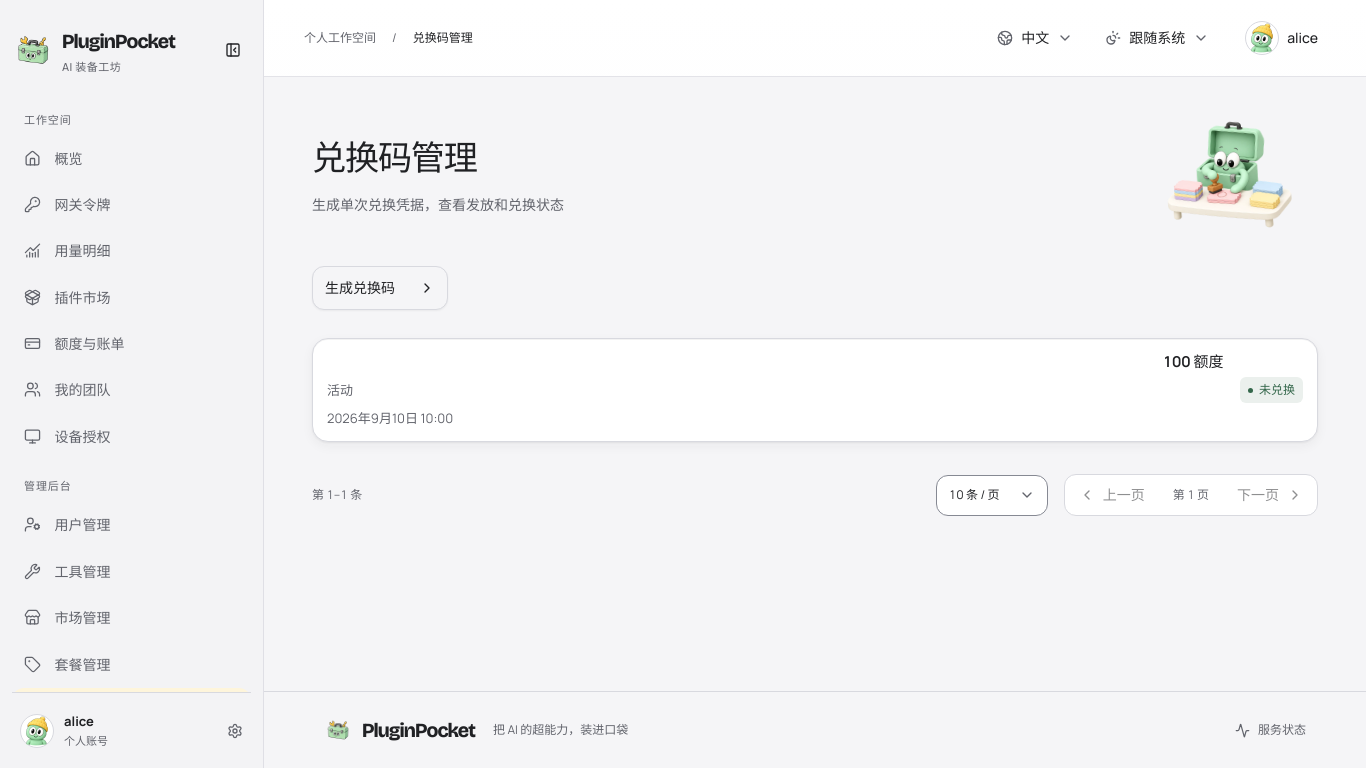
Test case: creates a redemption code whose plaintext is shown once and kept out of query caches
Click the button "生成兑换码": (380, 288) x1=312 y1=266 x2=448 y2=310
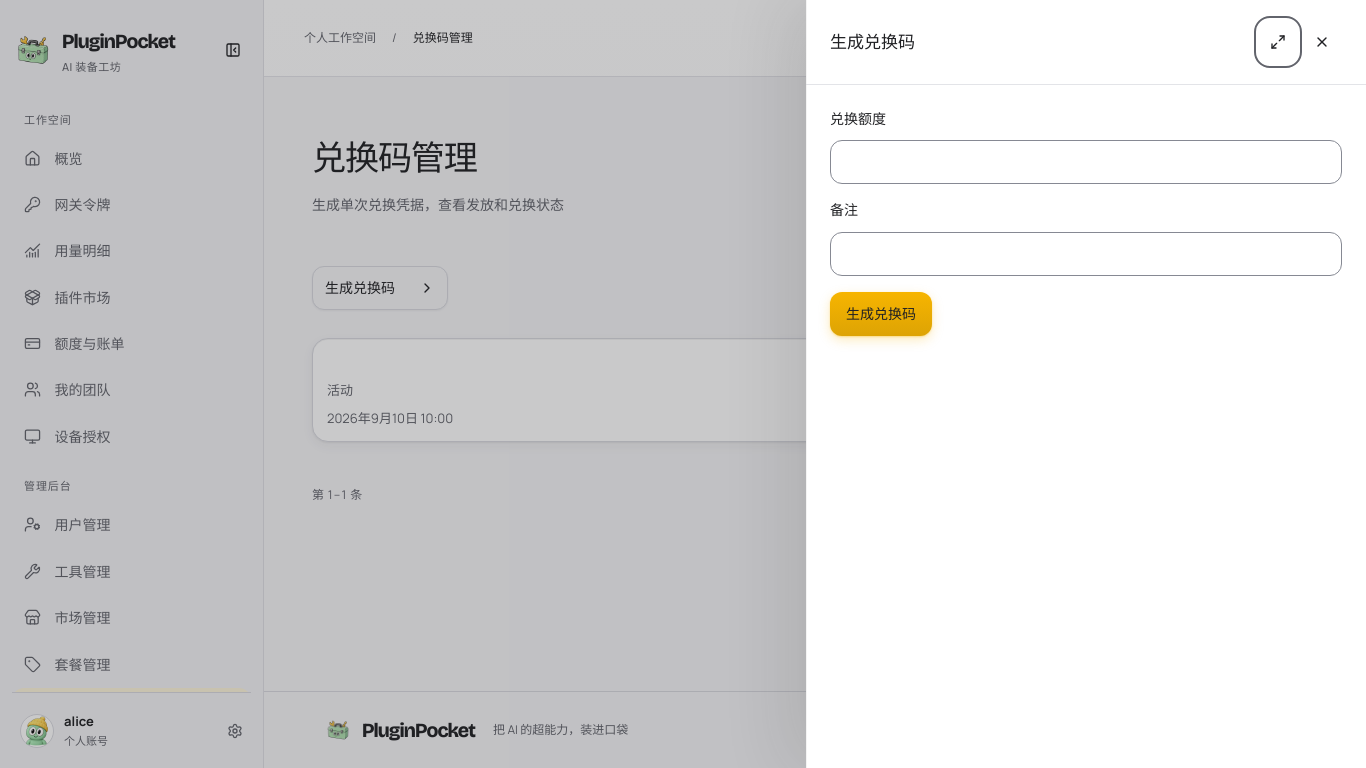
In the number field labelled "兑换额度": (1086, 162) x1=830 y1=140 x2=1342 y2=184, type "100"
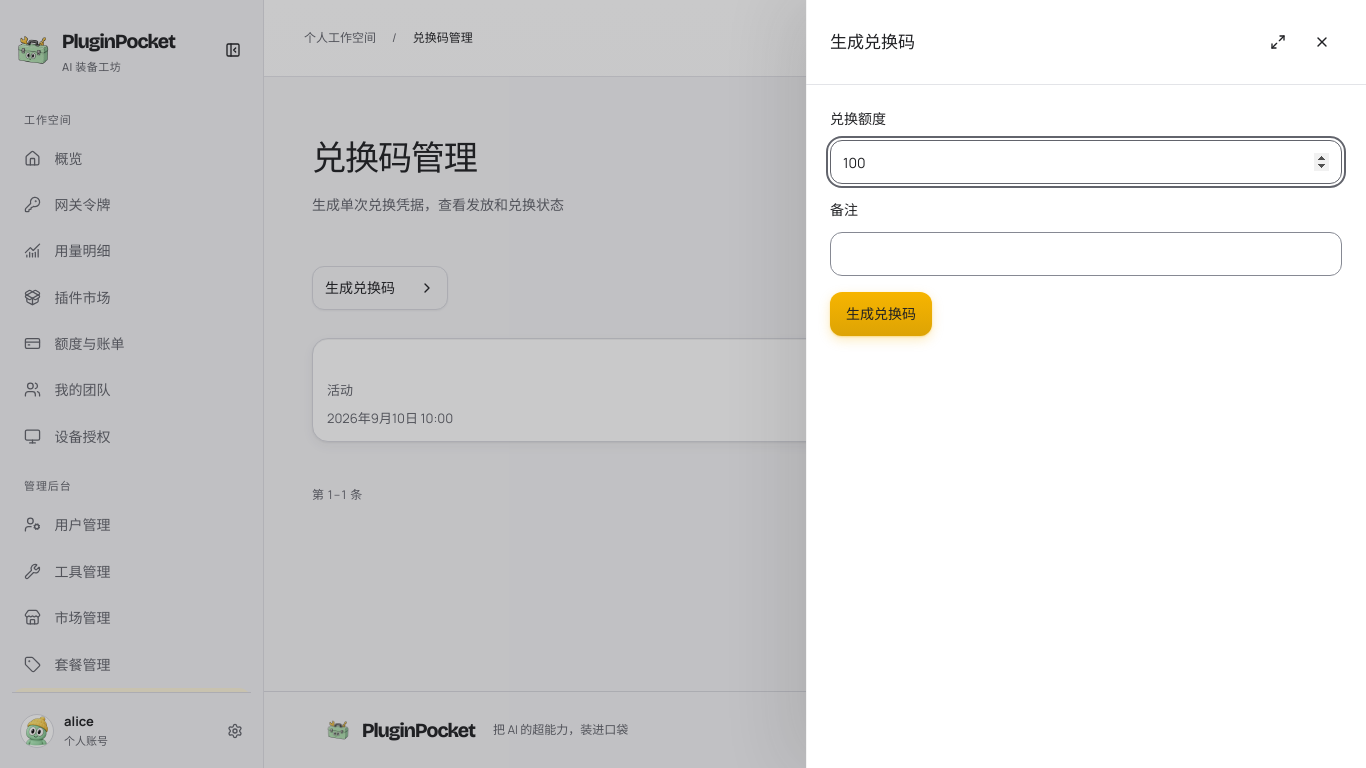
In the field labelled "备注": (1086, 254) x1=830 y1=232 x2=1342 y2=276, type "活动"
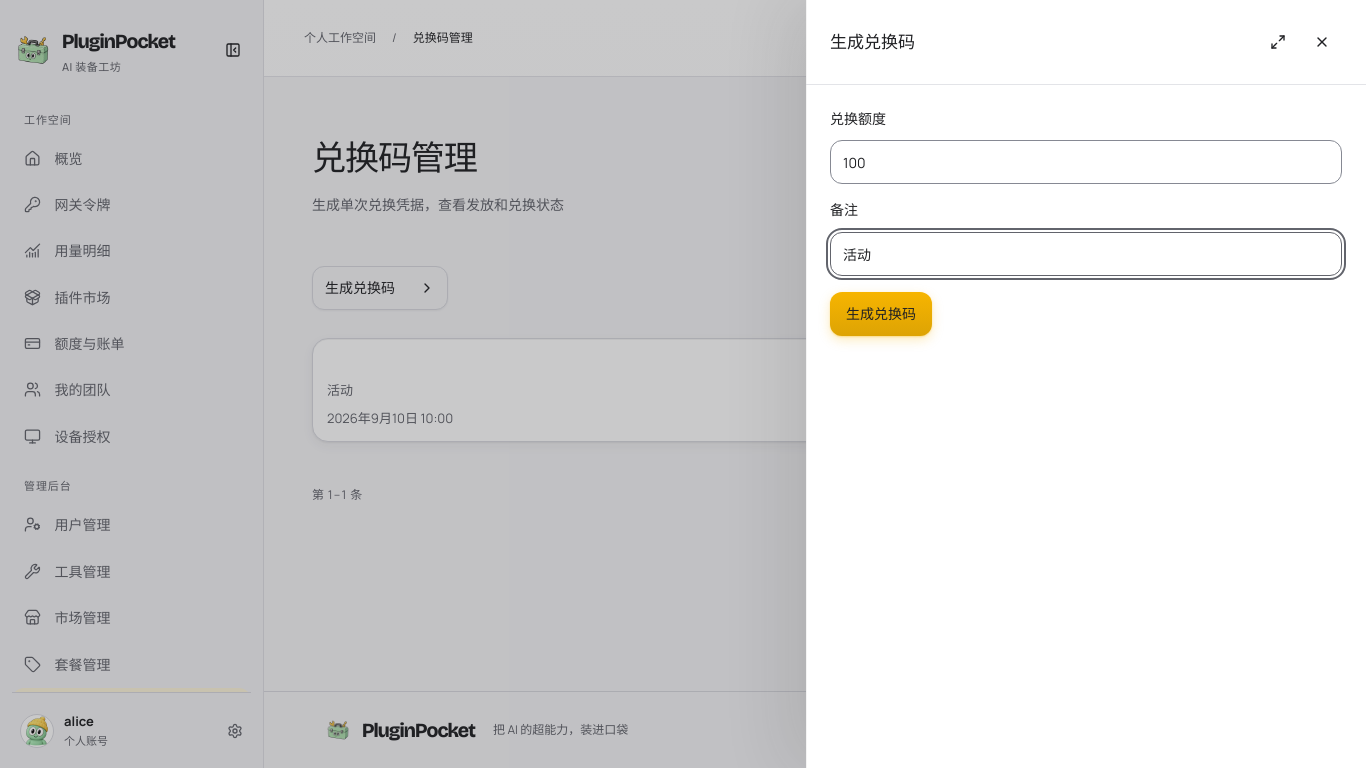
Click the button "生成兑换码": (881, 314) x1=830 y1=292 x2=932 y2=336
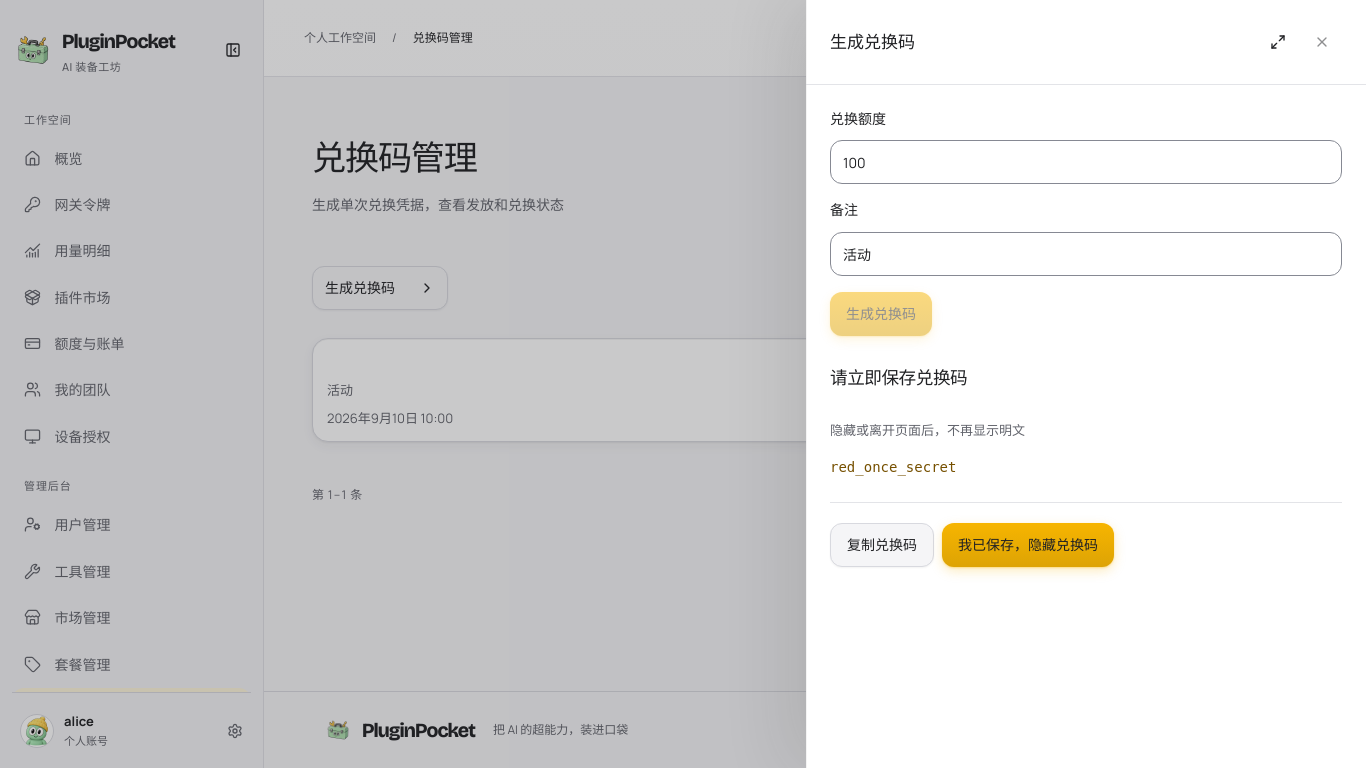
Expected: the text "red_once_secret" is shown, x1=830 y1=459 x2=956 y2=475
Click the button "我已保存，隐藏兑换码": (1028, 545) x1=942 y1=523 x2=1114 y2=567
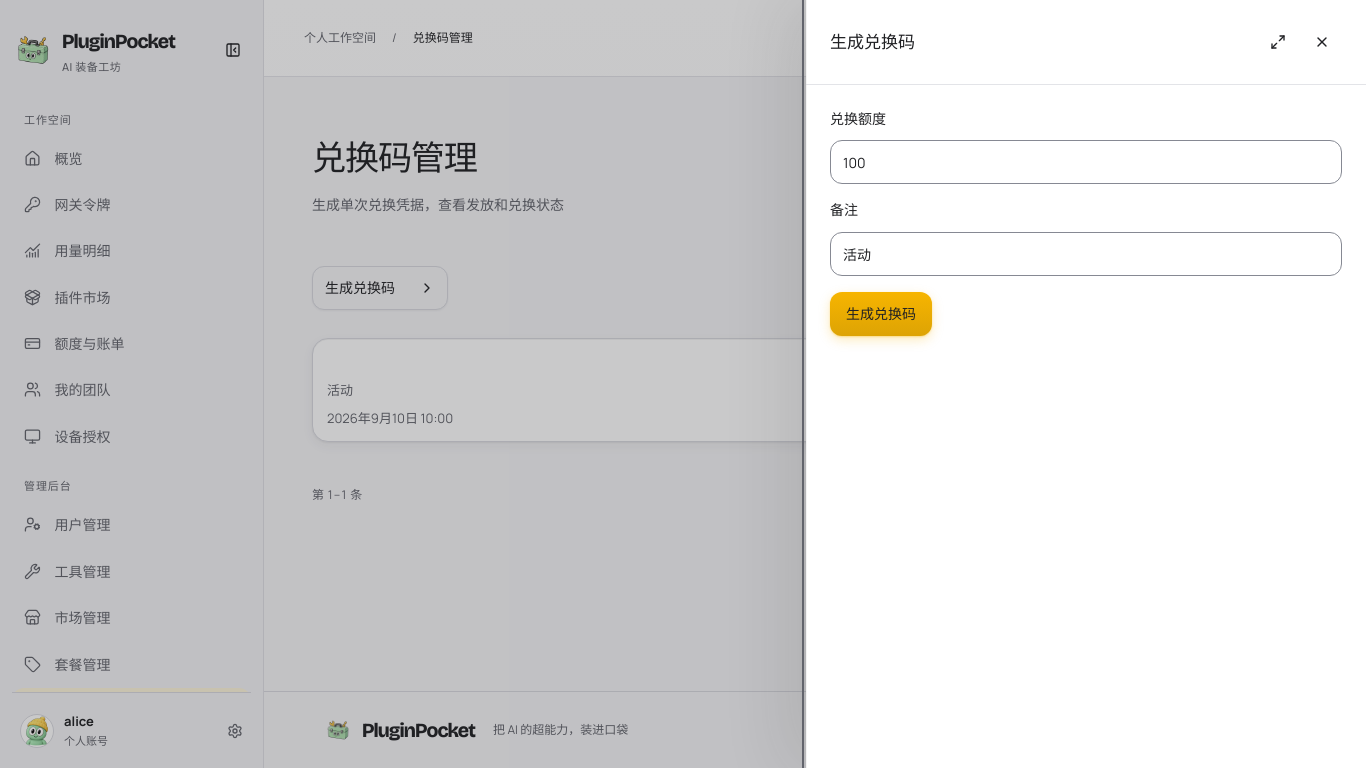
Expected: the text "red_once_secret" is gone
